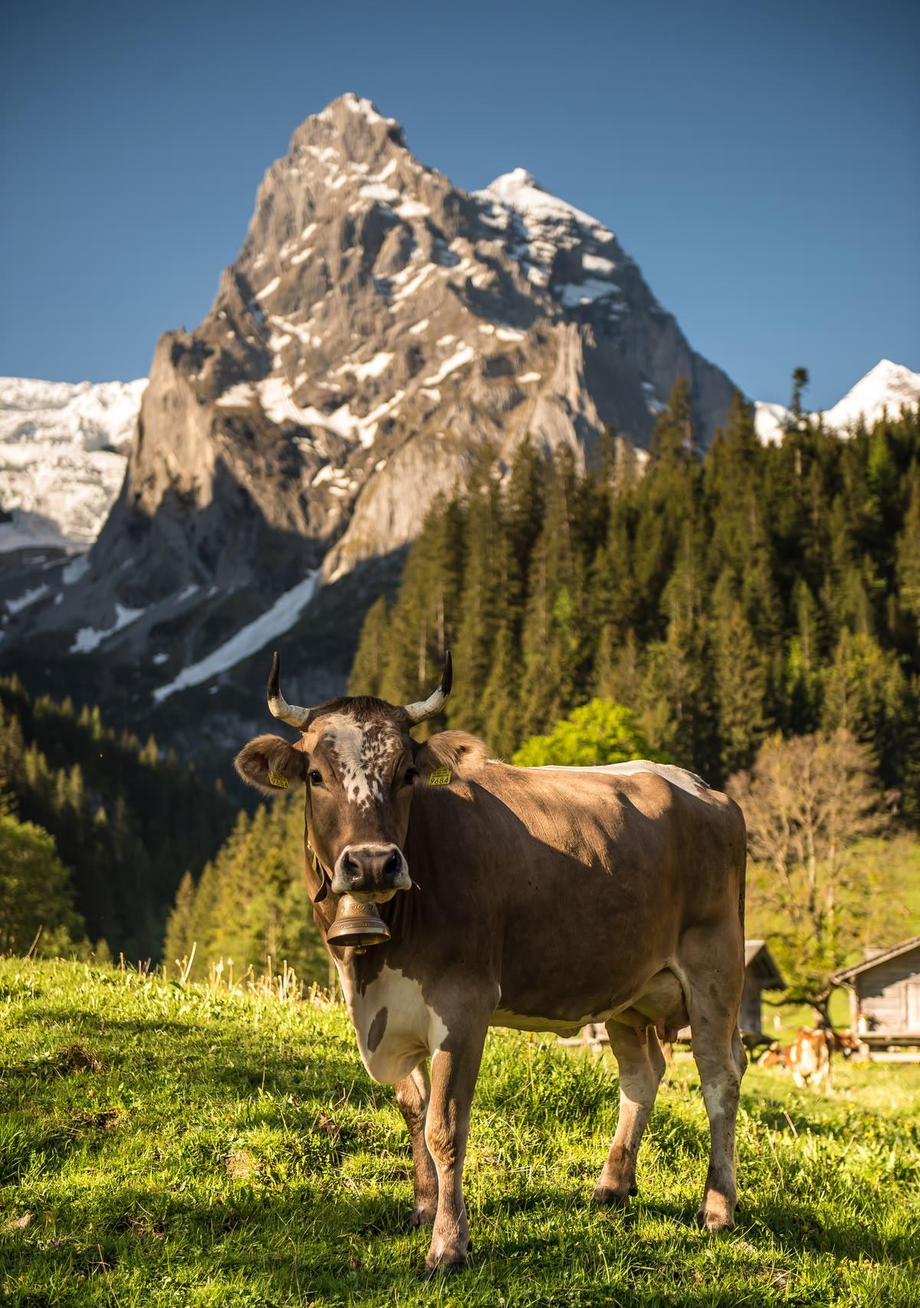cow: (236, 656, 745, 1270), (757, 1028, 866, 1088), (788, 1027, 830, 1089), (757, 1041, 790, 1066)
